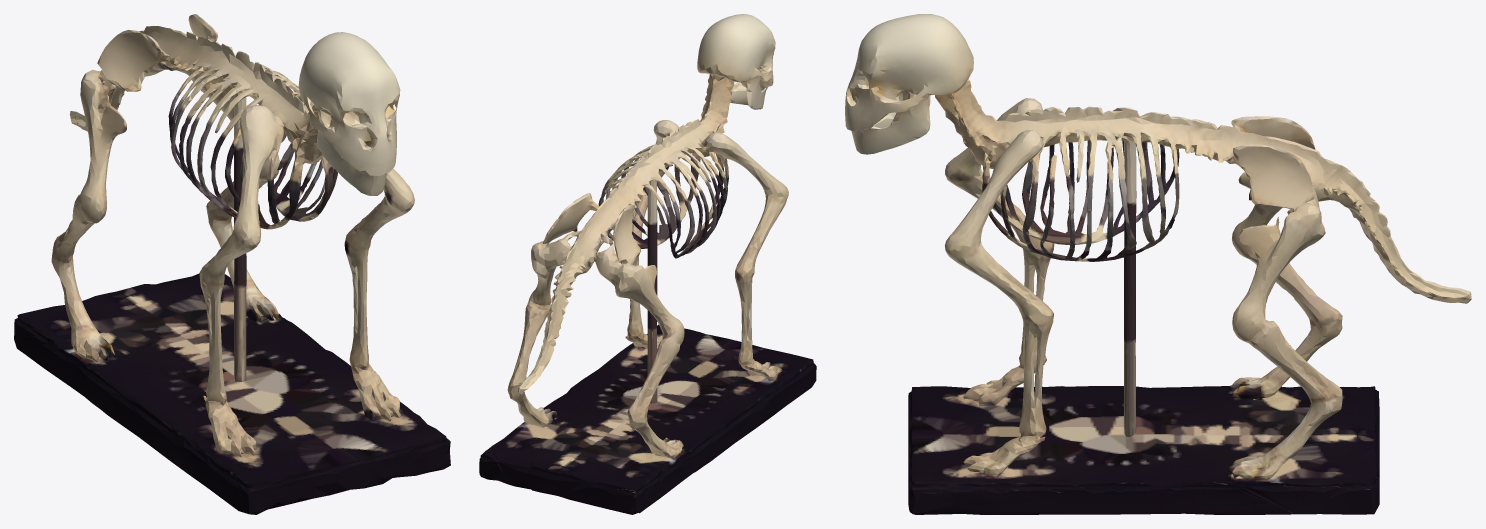
File: cat_skeleton.glb
The picture shows the model from 3 angles, left to right: view 1: azimuth 30°, elevation 25°; view 2: azimuth 150°, elevation 25°; view 3: azimuth 270°, elevation 25°; orthographic projection. The views are drawn at different scales.
Parts seen in each view (by area): view 1: model; view 2: model; view 3: model.
Part boxes in pixels (<box>): model: <box>14,14,450,514</box>; model: <box>479,14,816,514</box>; model: <box>845,14,1471,514</box>.
Bounding box in the file's own units: 0.7185 × 1.5 × 1.9.
Materials: 1 (1 with a texture image).
